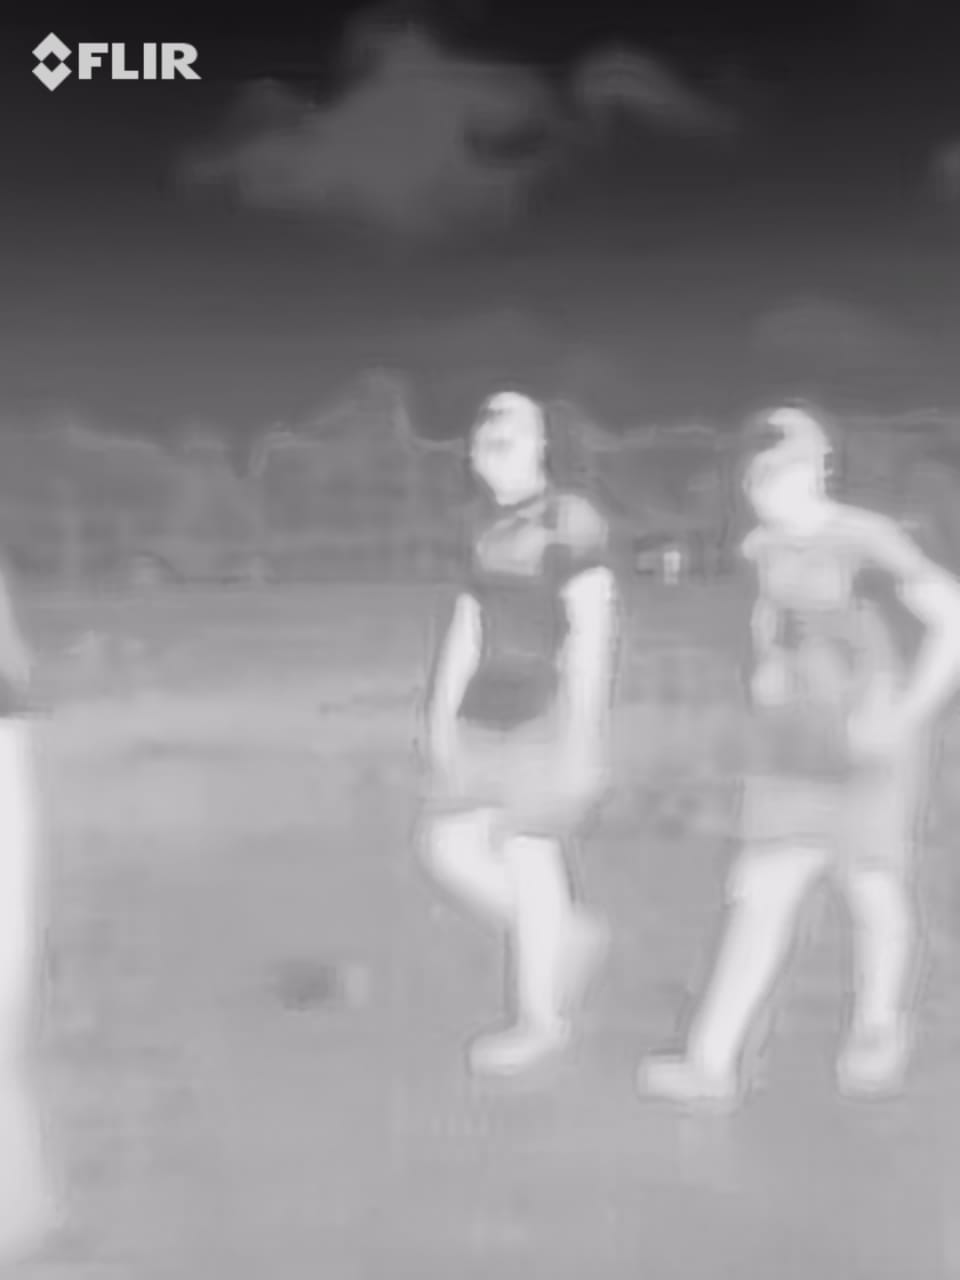head: (734, 402, 849, 544)
